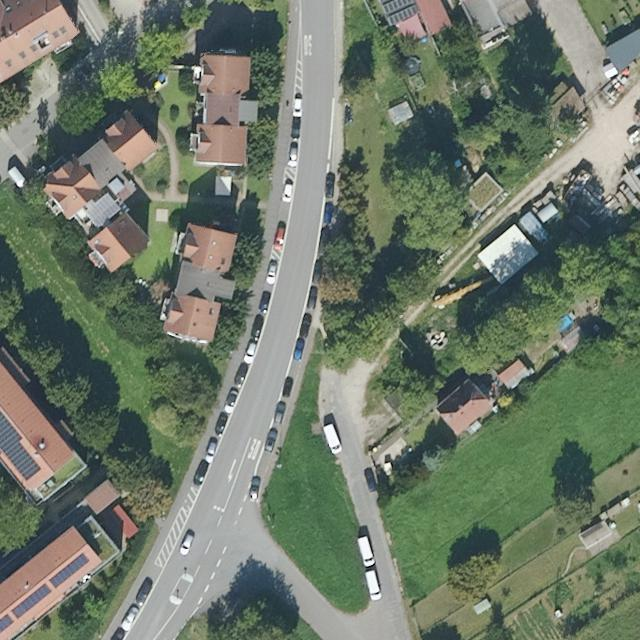PV: (0, 404, 46, 481), (47, 551, 91, 590), (10, 582, 54, 620), (377, 0, 424, 28)
